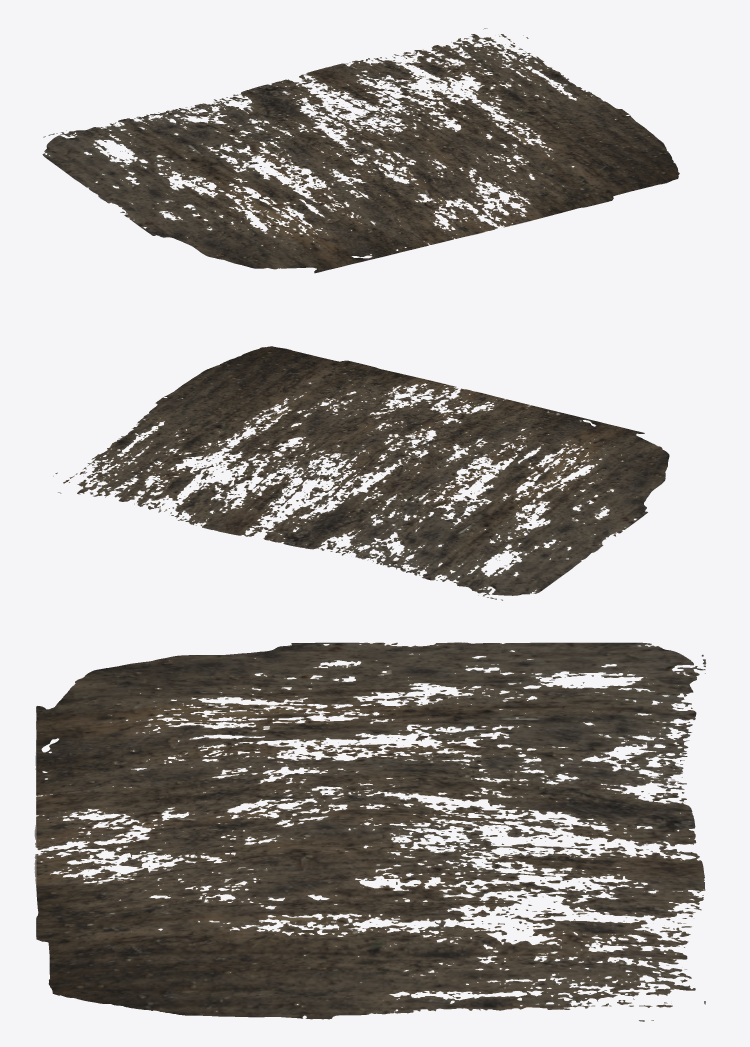
Rendered from Alpha_4.fbx.
3 views of the same model, one above another, from view 1: azimuth 30°, elevation 25°; view 2: azimuth 150°, elevation 25°; view 3: azimuth 270°, elevation 25° (orthographic). The views are drawn at different scales.
Parts seen in each view (by area): view 1: Plane_003; view 2: Plane_003; view 3: Plane_003.
Boxes of the visible parts, x1,y1,x2,y2 form: Plane_003: [42, 28, 679, 273]; Plane_003: [53, 346, 669, 600]; Plane_003: [34, 642, 706, 1021].
Size of the model in its own units: 2.56 by 0.0794 by 2.
